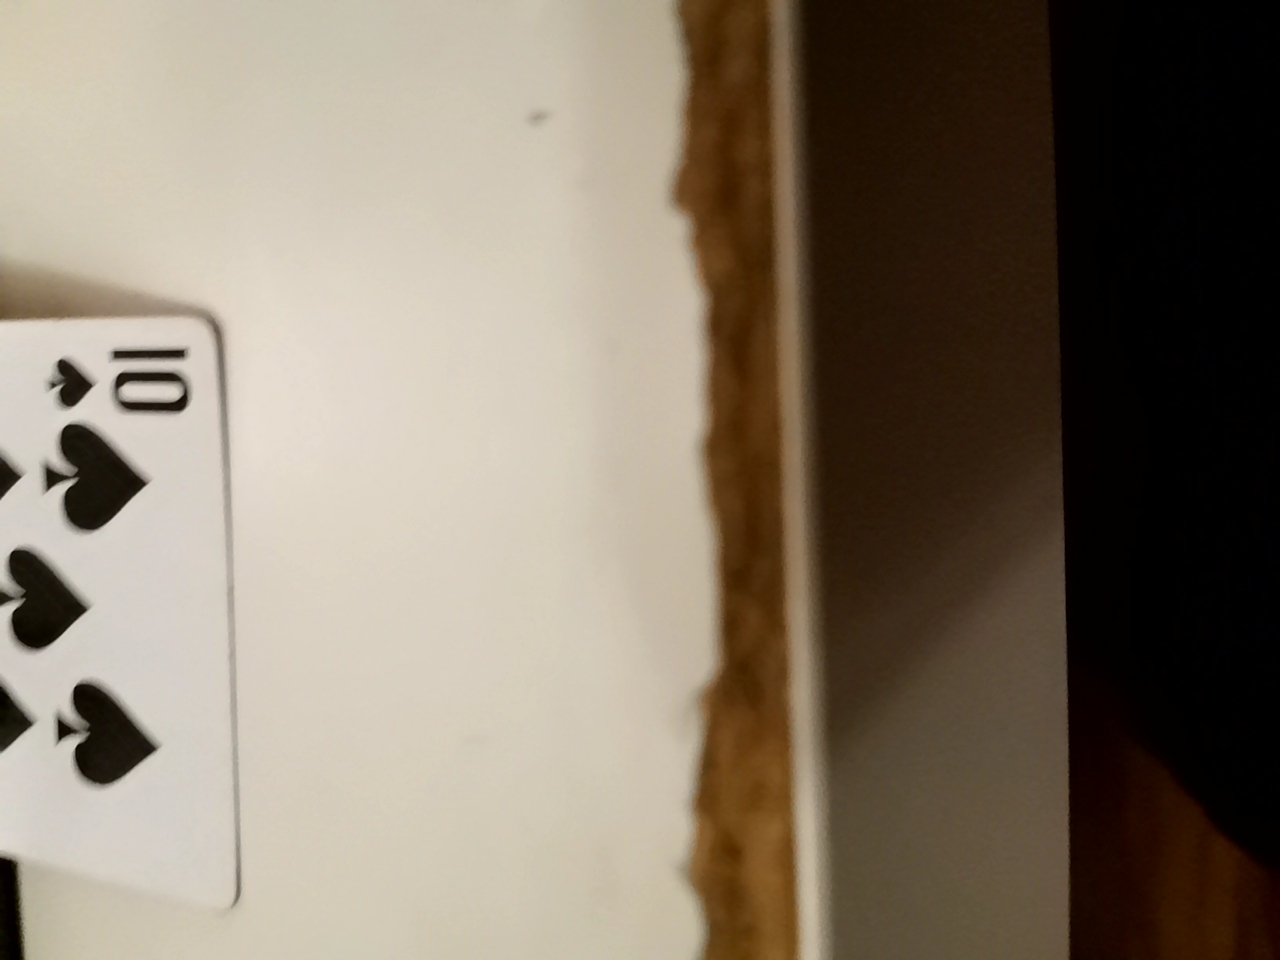ht 10: (2, 290, 224, 904)
